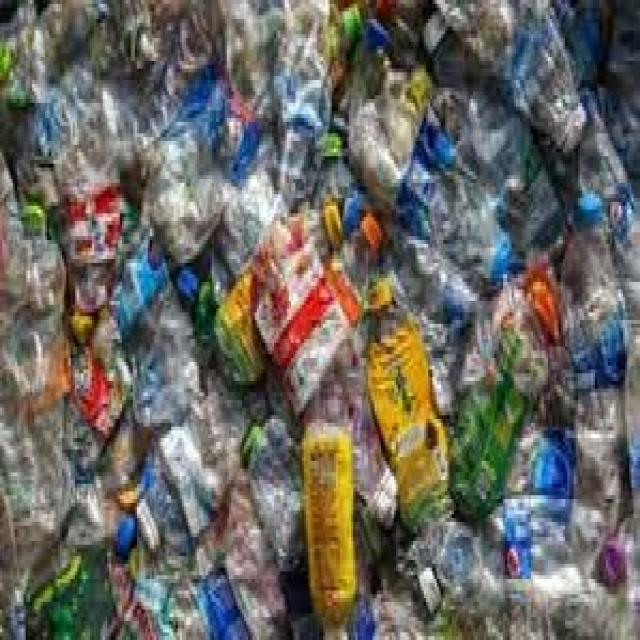heap: (16, 27, 640, 613)
